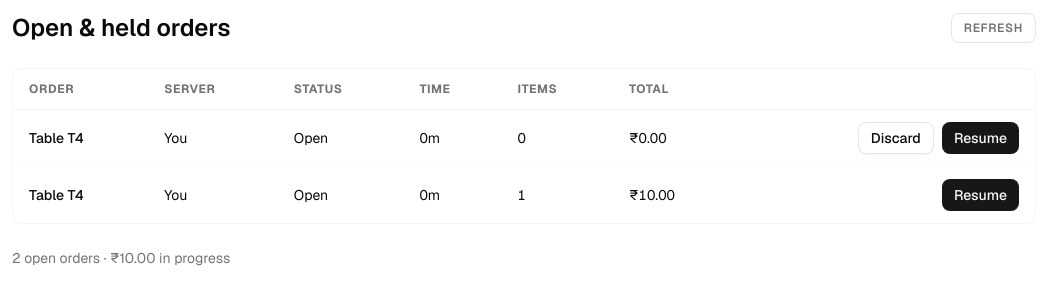
it: OpenOrdersScreen - clearing out empty orders (CU-14) › offers Discard only on my own empty orders, and the list reloads without it
Click the button with test id "open-order-discard-order-empty" at (896, 138), box left=858, top=122, right=934, bottom=154
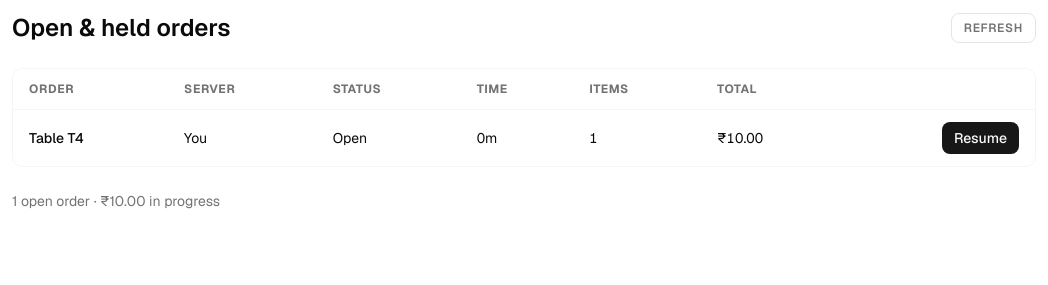
Now the row with test id "open-order-order-empty" is gone
